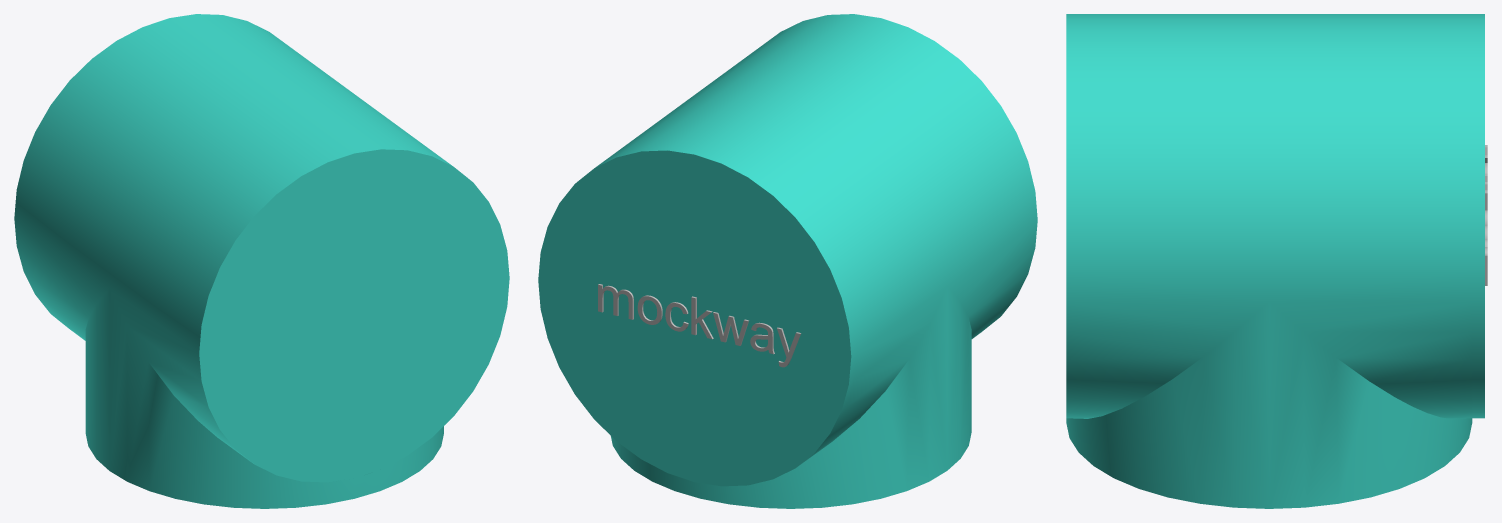
3 renders of one model, left to right at view 1: azimuth 30°, elevation 25°; view 2: azimuth 150°, elevation 25°; view 3: azimuth 270°, elevation 25°, orthographic. The views are drawn at different scales.
Parts seen in each view (by area): view 1: link5; view 2: link5; view 3: link5.
Boxes of the visible parts, <box> form: link5: <box>14,14,509,508</box>; link5: <box>538,14,1037,508</box>; link5: <box>1066,14,1487,508</box>.
Bounding box in the file's own units: 0.0634 × 0.0658 × 0.0726.
